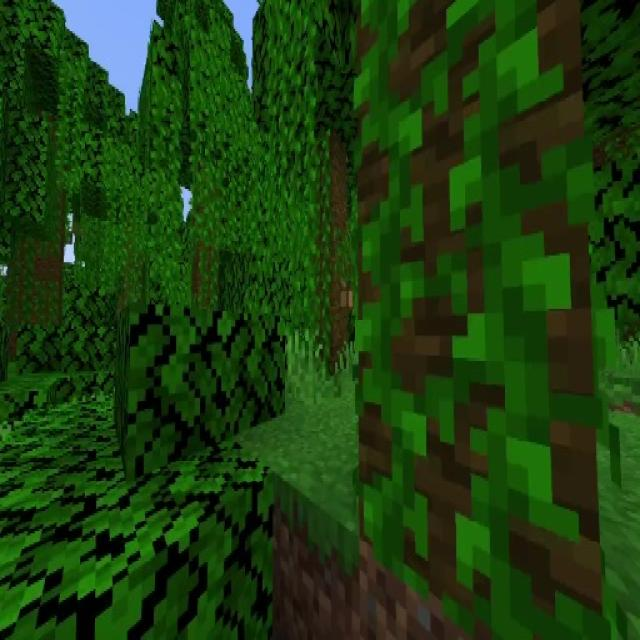jungle_log: (365, 0, 602, 638), (314, 141, 350, 382), (9, 173, 63, 320), (189, 171, 220, 306)
